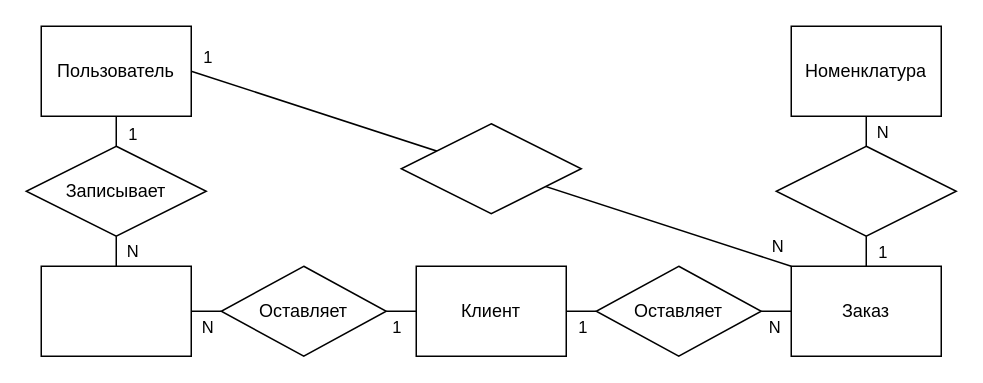
This 983x383 diagram has some shape labels left out. The centre of each missing label's shape, as x and y in pixels:
"Звонок" belongs at [115,310].
"Содержит" belongs at [865,190].
"Создает" belongs at [490,168].
